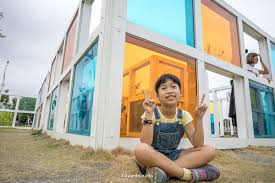people: (134, 75, 221, 182), (246, 51, 268, 136)
